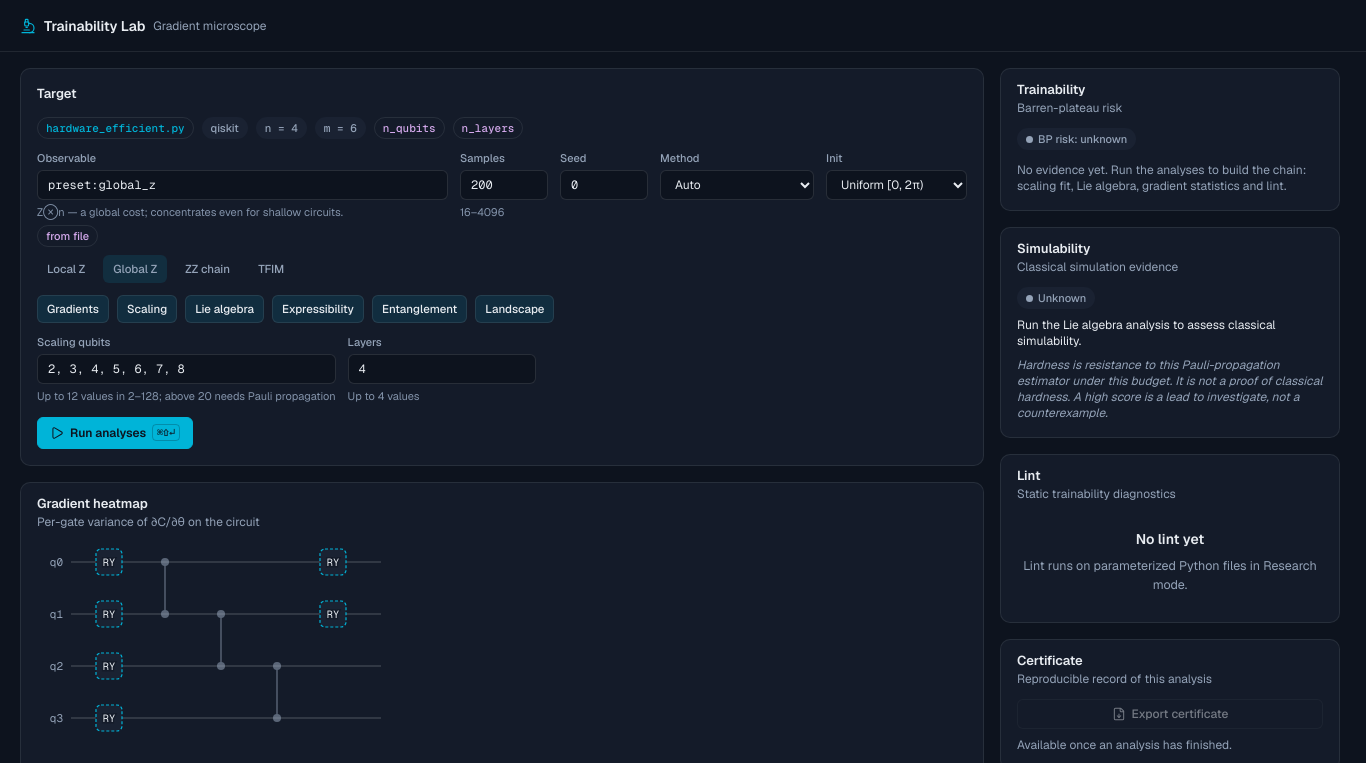
Test: review fixes: target bar (UI-2, UI-3) › shows a "from file" chip for a declared observable, and drops it when the user edits
The image size is (1366, 763).
Check: the text "from file" is shown, box top-left (37, 225), bottom-right (98, 247)
Replace the text in the field labelled "Observable" with "0.5*Z0*Z1" at (242, 185), box top-left (37, 170), bottom-right (448, 200)
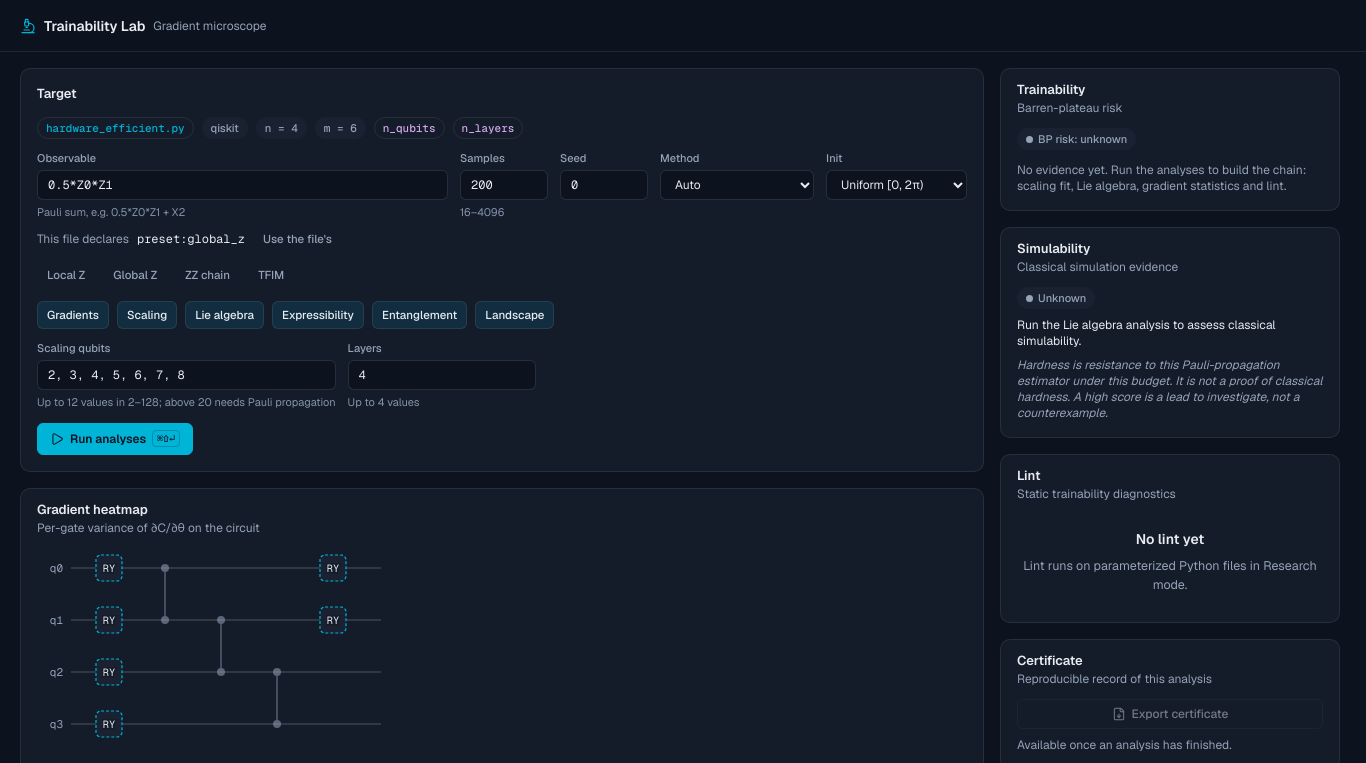
Check: the text "from file" is gone
Check: the text "preset:global_z" is shown, box top-left (137, 231), bottom-right (245, 247)
Click the button "Use the file's" at (298, 239), box top-left (253, 225), bottom-right (342, 253)
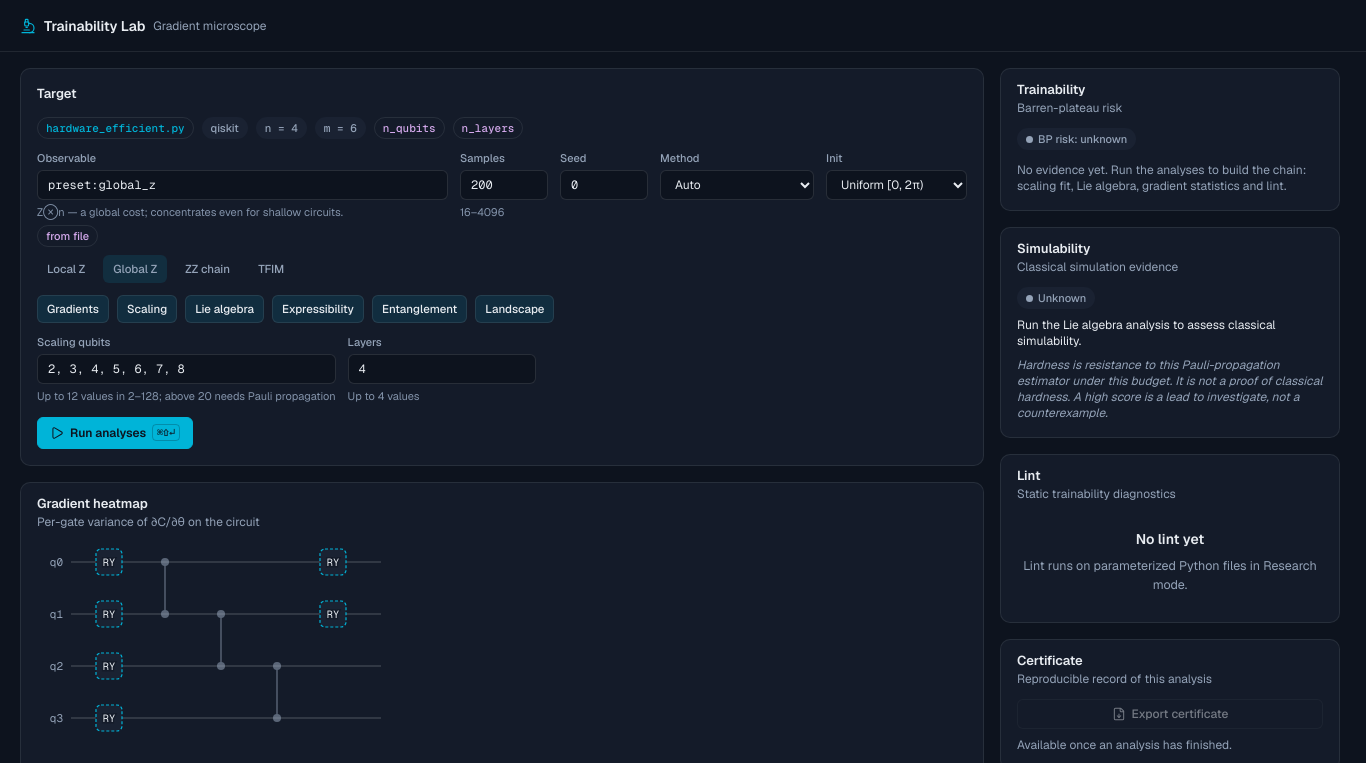
Check: the text "from file" is shown, box top-left (37, 225), bottom-right (98, 247)
